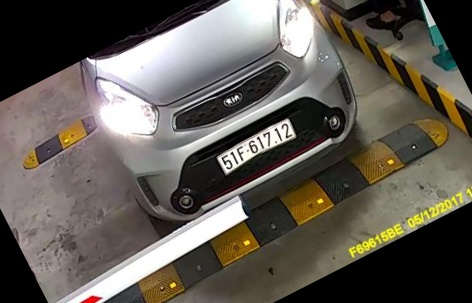plate: (215, 122, 306, 173)
